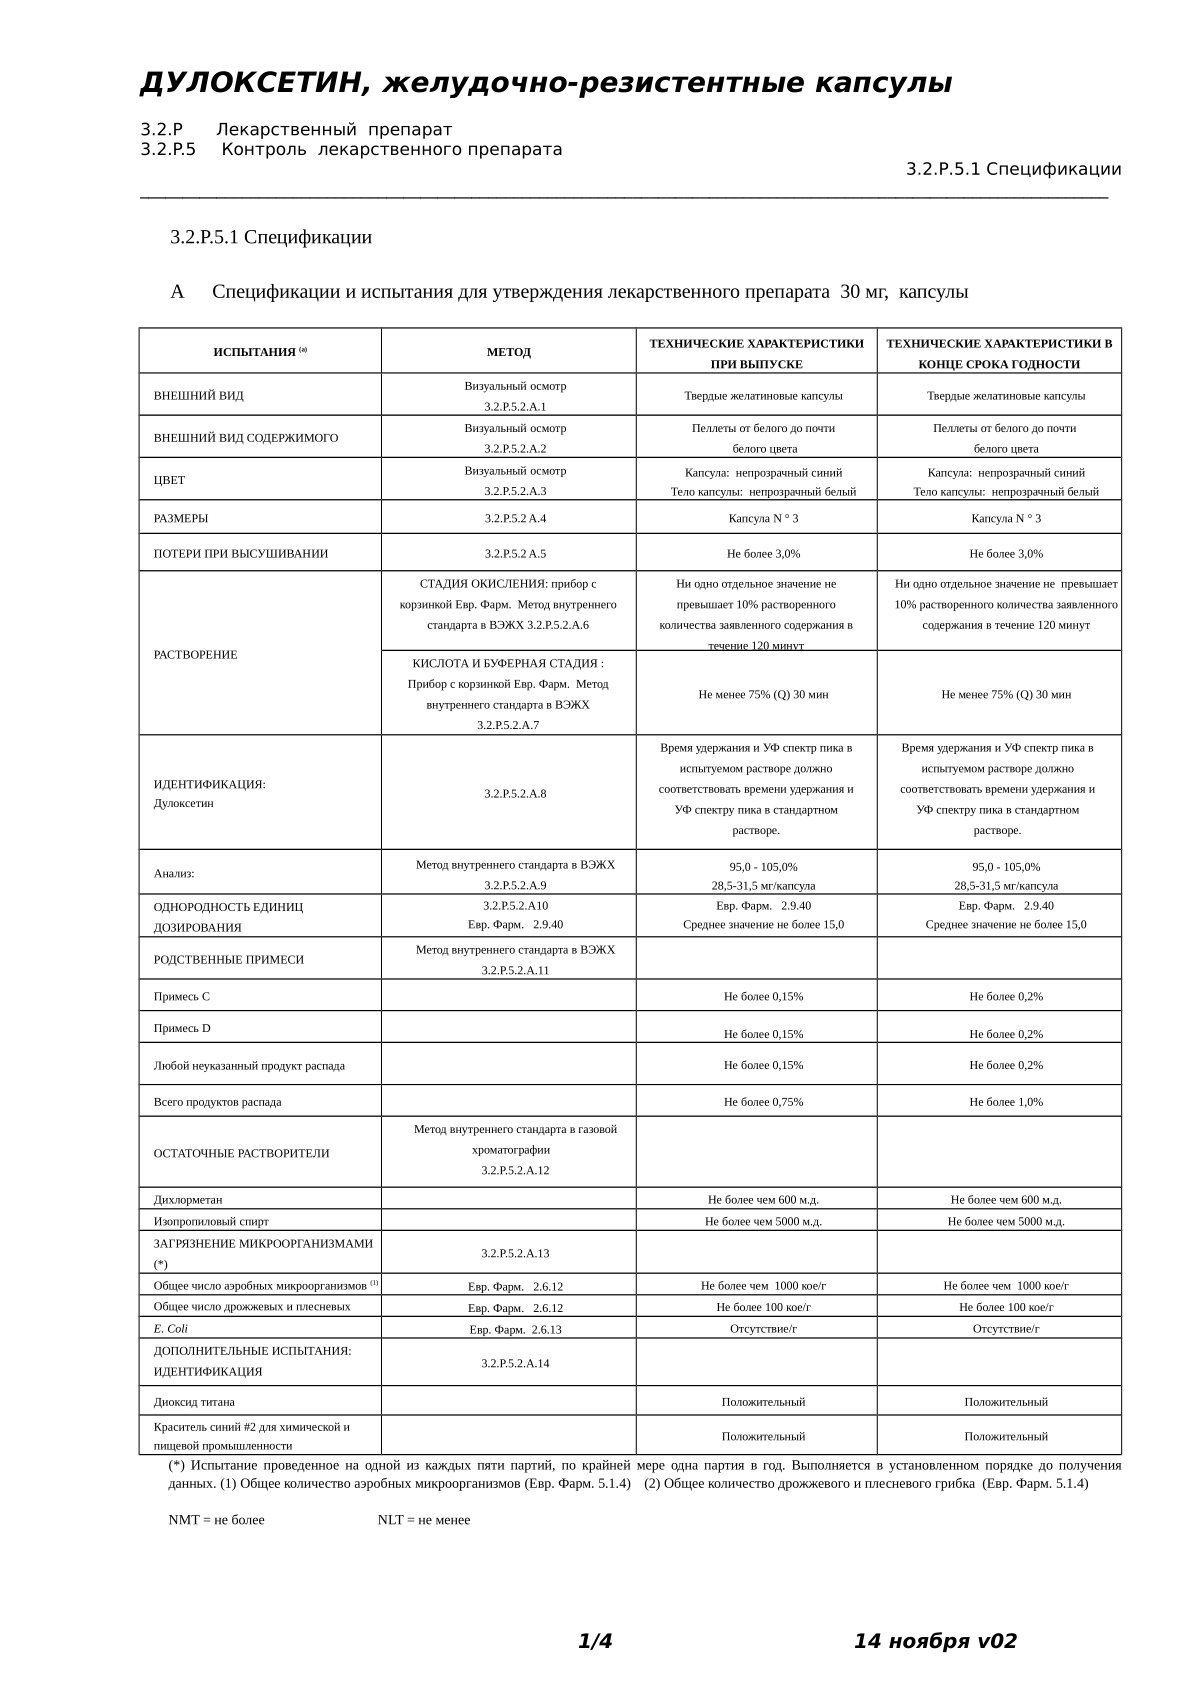full_lined: (138, 327, 1123, 1456)
